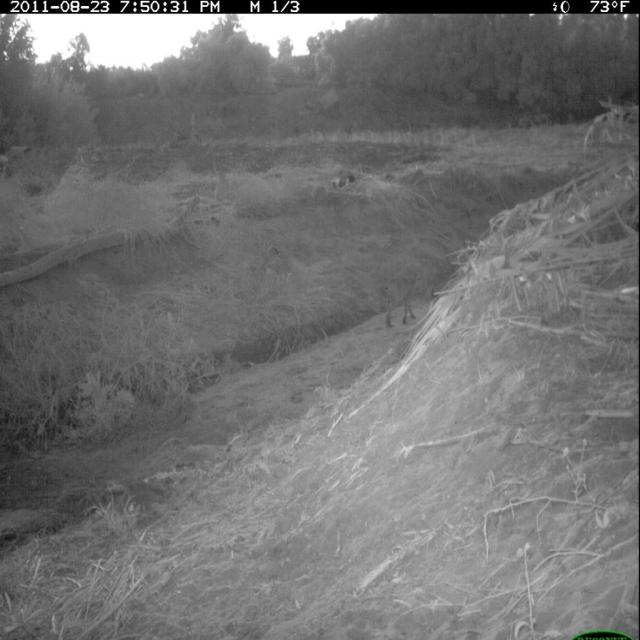bobcat: (382, 260, 431, 331)
